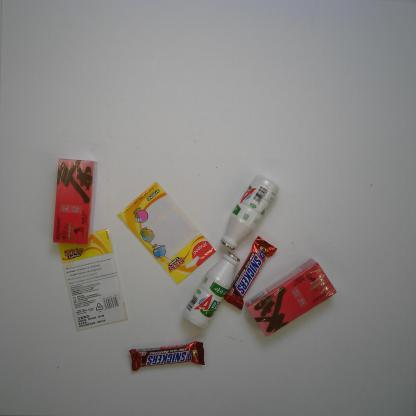Chocolate: (224, 236, 278, 311), (128, 341, 205, 372)
Instant Drink: (245, 258, 336, 337), (52, 158, 97, 245)
Milk: (220, 172, 280, 252), (182, 251, 241, 331)
Stationery: (116, 180, 217, 286), (58, 229, 129, 331)
